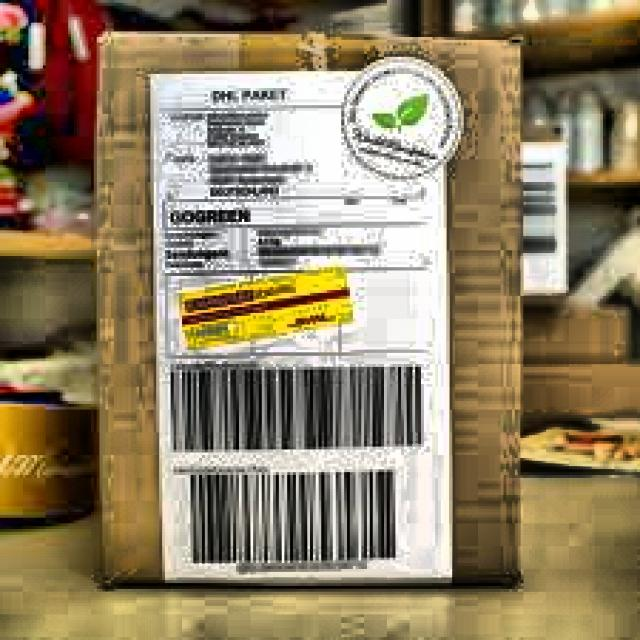Cardbox: (81, 20, 533, 604)
